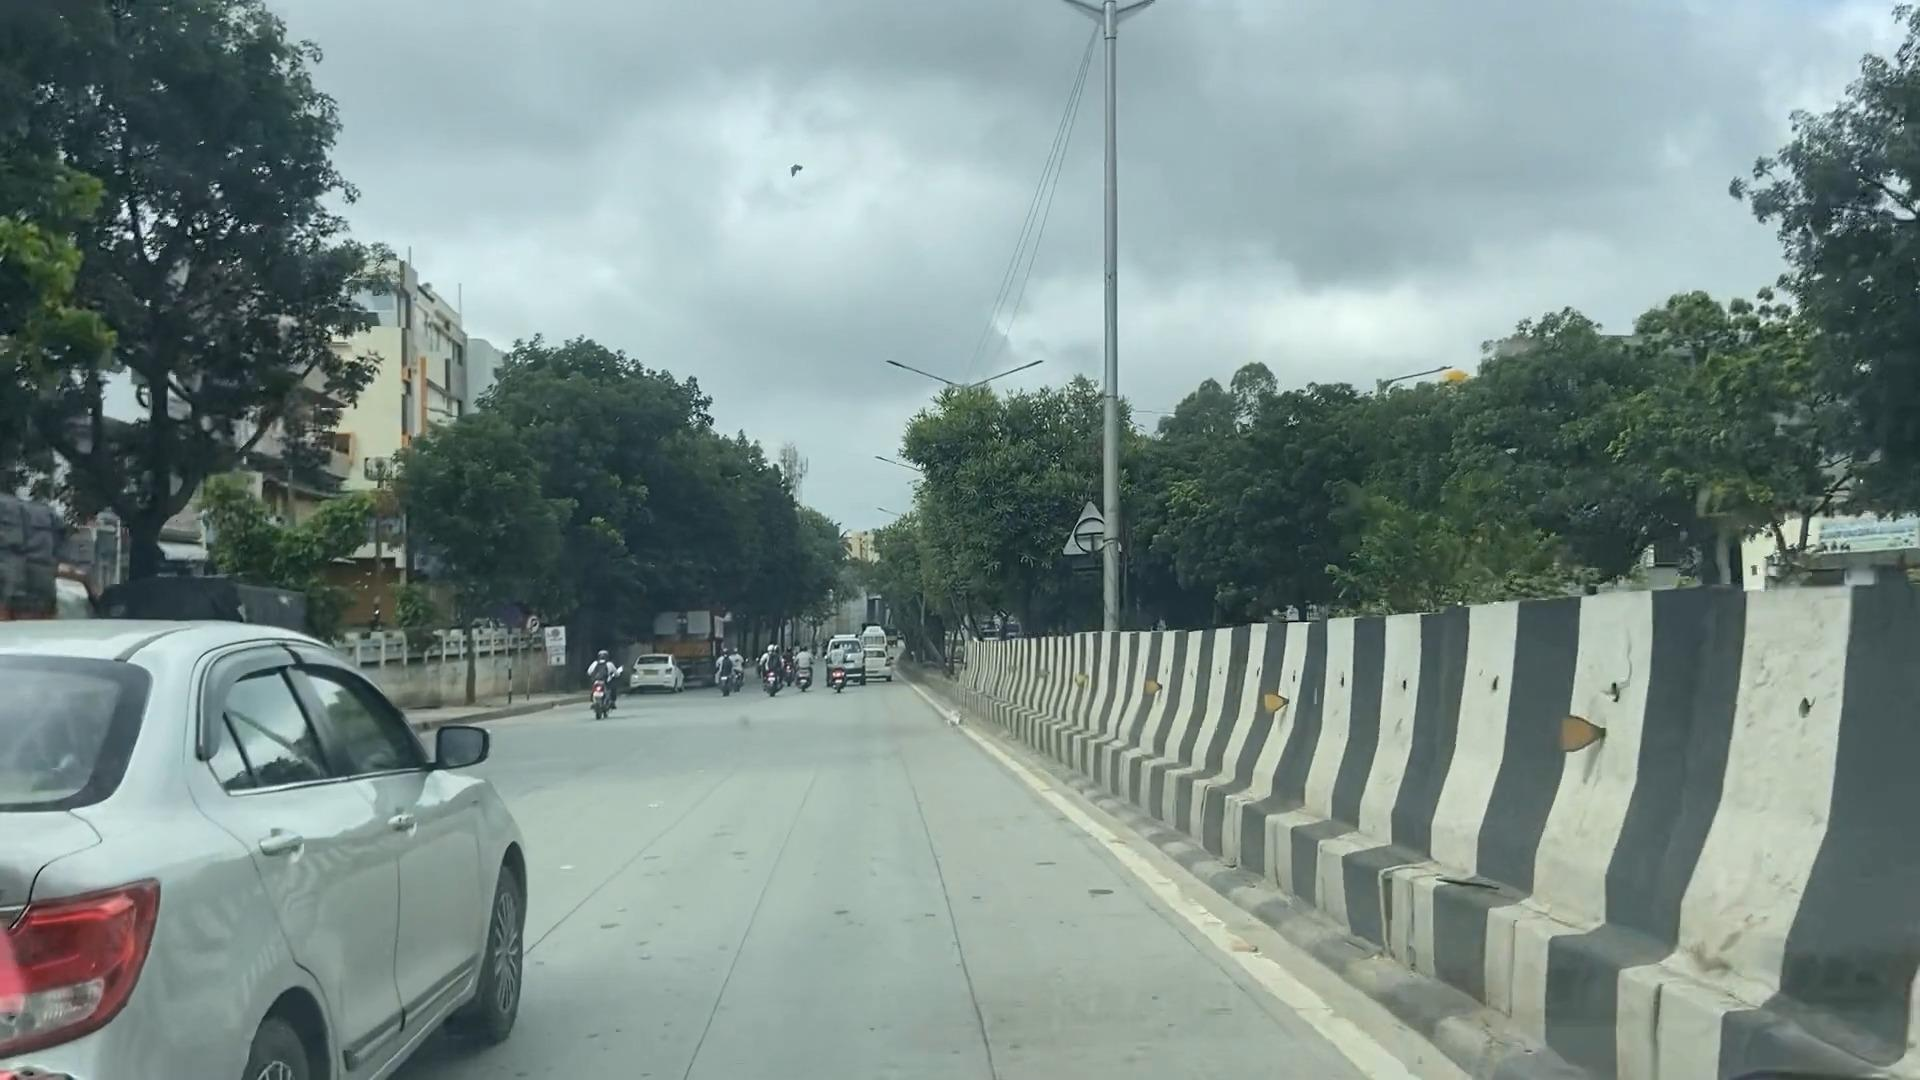LMV: (0, 608, 537, 1080)
